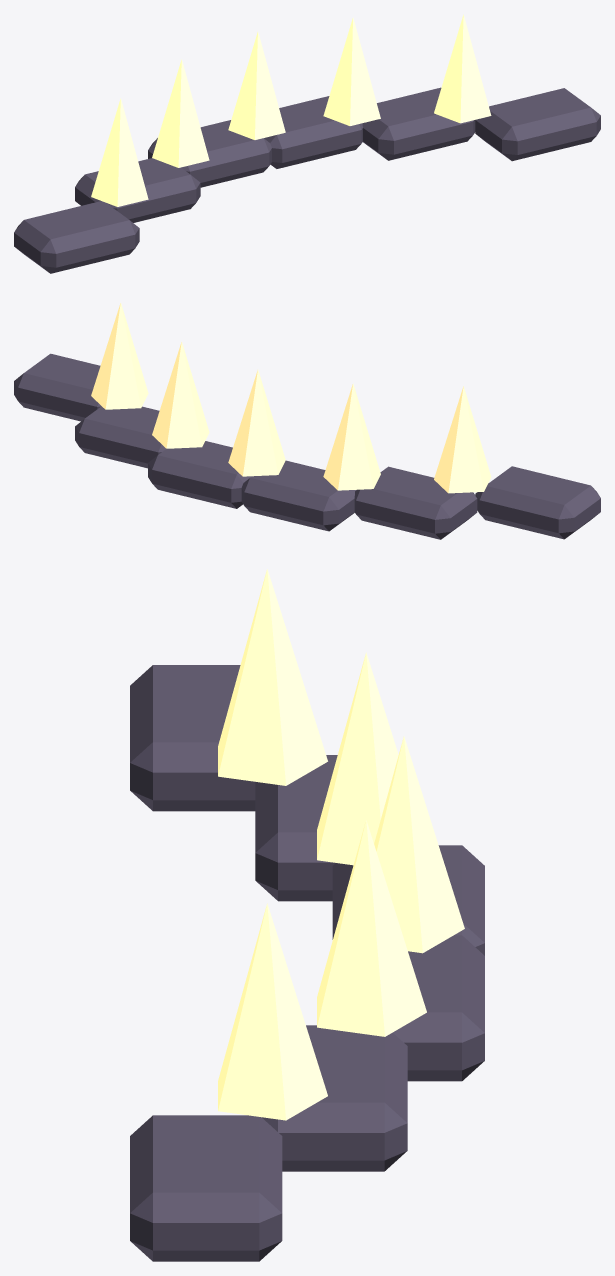
Rendered from ember_spark_trail.glb.
3 renders of one model, top to bottom at view 1: azimuth 30°, elevation 25°; view 2: azimuth 150°, elevation 25°; view 3: azimuth 270°, elevation 25°, orthographic. The views are drawn at different scales.
Visible parts, largest first — view 1: ember_spark_trail_Body, ember_spark_trail_Sparks.001; view 2: ember_spark_trail_Body, ember_spark_trail_Sparks.001; view 3: ember_spark_trail_Body, ember_spark_trail_Sparks.001.
Boxes of the visible parts, x1=… form: ember_spark_trail_Body: x1=14, y1=87, x2=600, y2=273; ember_spark_trail_Sparks.001: x1=91, y1=14, x2=491, y2=206; ember_spark_trail_Body: x1=14, y1=353, x2=600, y2=539; ember_spark_trail_Sparks.001: x1=91, y1=302, x2=491, y2=493; ember_spark_trail_Body: x1=130, y1=665, x2=484, y2=1261; ember_spark_trail_Sparks.001: x1=218, y1=569, x2=464, y2=1120.
Bounding box in the file's own units: 1.7 × 0.38 × 0.4663.
